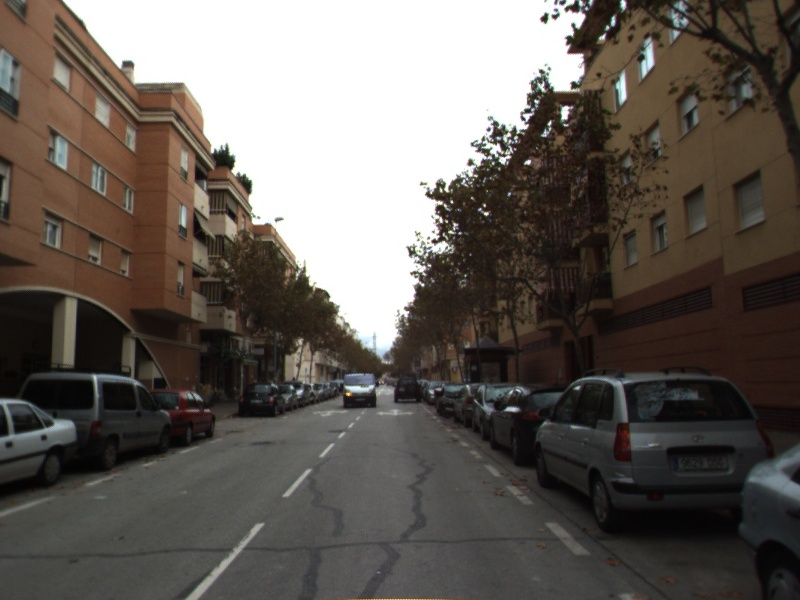STRAIGHT_LEFT_RIGHT: (374, 406, 416, 418)
